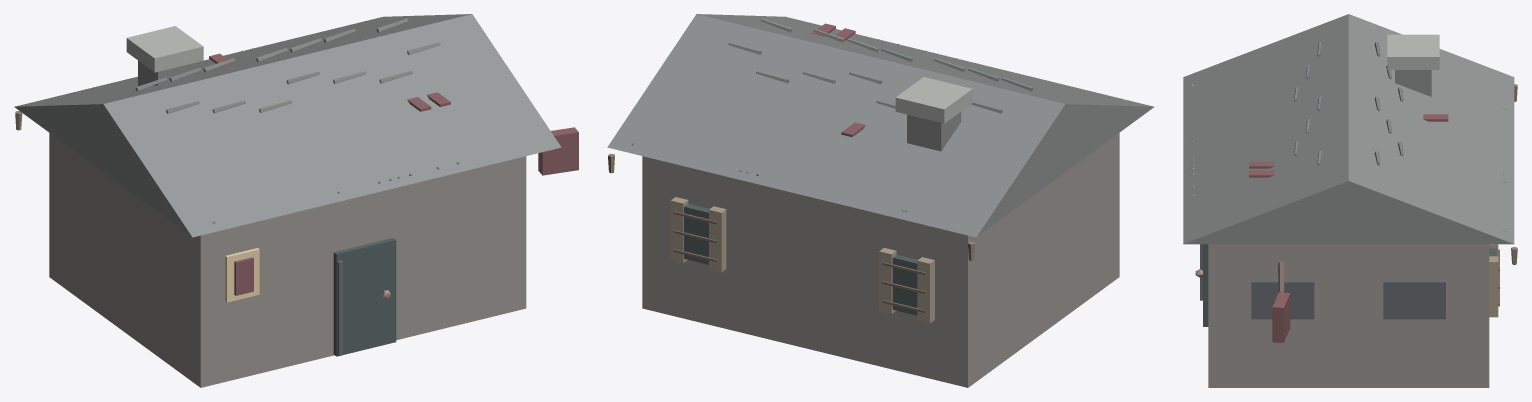
The model's file is last_light_inn.glb.
3 renders of one model, left to right at view 1: azimuth 30°, elevation 25°; view 2: azimuth 150°, elevation 25°; view 3: azimuth 270°, elevation 25°, orthographic. The views are drawn at different scales.
Parts seen in each view (by area): view 1: last_light_inn_material_06, last_light_inn_material_00, last_light_inn_material_02, last_light_inn_material_09, last_light_inn_material_11, last_light_inn_material_07, last_light_inn_material_12, last_light_inn_material_08, last_light_inn_material_03; view 2: last_light_inn_material_06, last_light_inn_material_00, last_light_inn_material_05, last_light_inn_material_11, last_light_inn_material_02, last_light_inn_material_07, last_light_inn_material_01, last_light_inn_material_08, last_light_inn_material_09; view 3: last_light_inn_material_06, last_light_inn_material_00, last_light_inn_material_03, last_light_inn_material_11, last_light_inn_material_09, last_light_inn_material_07, last_light_inn_material_05, last_light_inn_material_02, last_light_inn_material_01, last_light_inn_material_08.
Part boxes in pixels (<box>): last_light_inn_material_06: <box>14,14,561,237</box>; last_light_inn_material_00: <box>49,133,526,387</box>; last_light_inn_material_02: <box>333,238,396,356</box>; last_light_inn_material_09: <box>209,53,578,295</box>; last_light_inn_material_11: <box>126,26,203,72</box>; last_light_inn_material_07: <box>93,20,459,224</box>; last_light_inn_material_12: <box>225,248,259,302</box>; last_light_inn_material_08: <box>135,68,319,113</box>; last_light_inn_material_03: <box>337,260,342,356</box>; last_light_inn_material_06: <box>607,14,1154,237</box>; last_light_inn_material_00: <box>642,133,1119,387</box>; last_light_inn_material_05: <box>670,197,934,323</box>; last_light_inn_material_11: <box>895,77,972,123</box>; last_light_inn_material_02: <box>684,204,917,315</box>; last_light_inn_material_07: <box>632,28,1124,212</box>; last_light_inn_material_01: <box>673,211,926,313</box>; last_light_inn_material_08: <box>881,48,1033,113</box>; last_light_inn_material_09: <box>812,23,865,136</box>; last_light_inn_material_06: <box>1183,14,1514,244</box>; last_light_inn_material_00: <box>1208,244,1489,387</box>; last_light_inn_material_03: <box>1200,244,1445,319</box>; last_light_inn_material_11: <box>1387,34,1439,69</box>; last_light_inn_material_09: <box>1249,114,1448,342</box>; last_light_inn_material_07: <box>1191,70,1505,231</box>; last_light_inn_material_05: <box>1489,244,1498,317</box>; last_light_inn_material_02: <box>1203,244,1496,326</box>; last_light_inn_material_01: <box>1277,249,1499,306</box>; last_light_inn_material_08: <box>1305,42,1391,111</box>.
Bounding box in the file's own units: 4.82 × 2.61 × 3.46.
